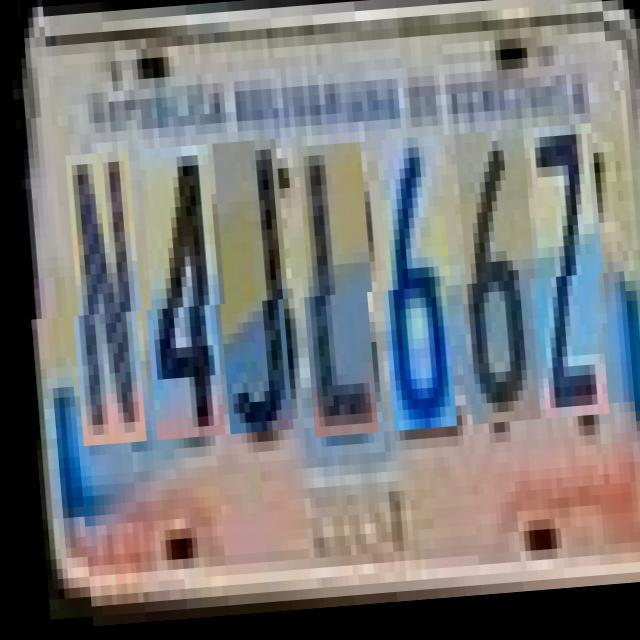4: (136, 148, 223, 442)
6: (452, 138, 538, 432), (372, 143, 454, 437)
J: (210, 143, 292, 437)
L: (294, 148, 376, 442)
N: (62, 152, 144, 446)
Z: (524, 133, 606, 427)
